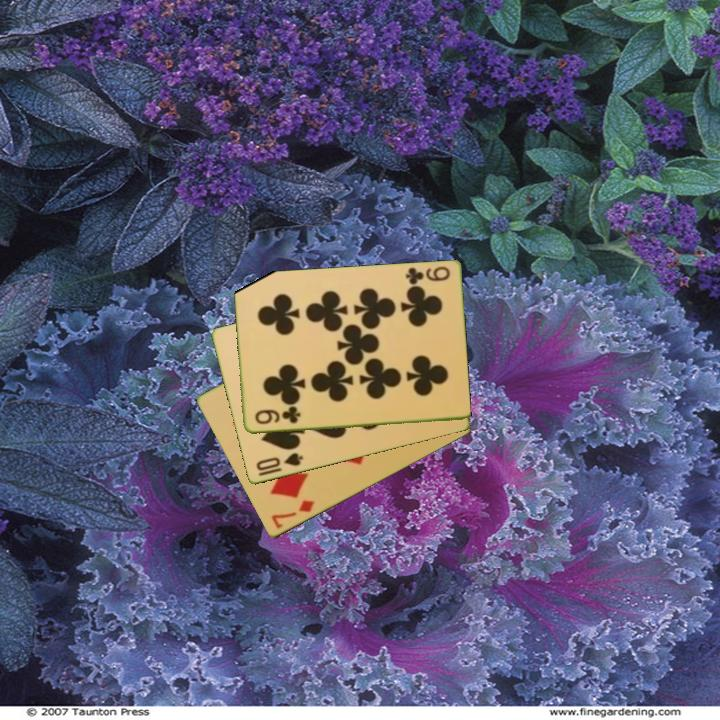10s: (252, 449, 306, 474)
7d: (268, 497, 318, 532)
9c: (402, 263, 452, 288), (251, 405, 303, 427)
